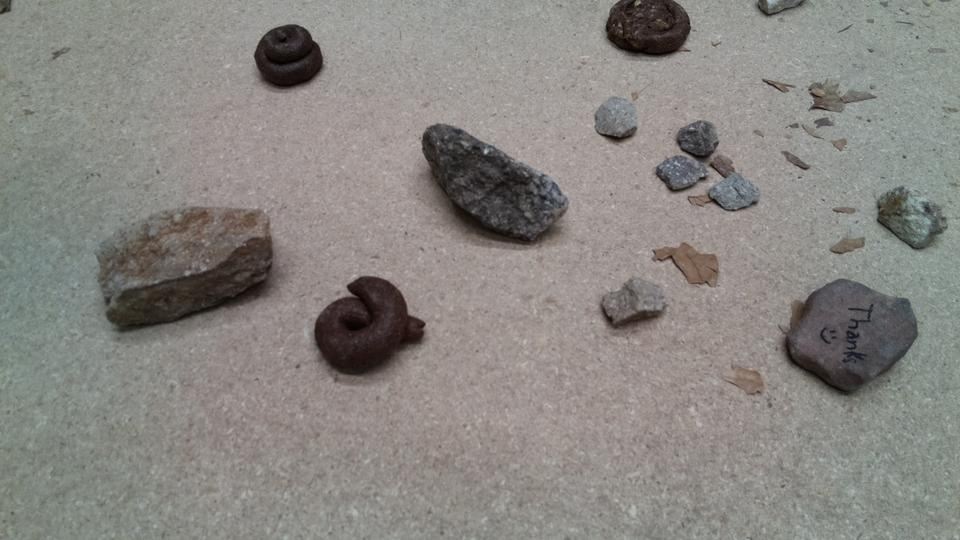poop: (313, 273, 423, 376), (246, 21, 328, 90), (605, 1, 693, 58)
